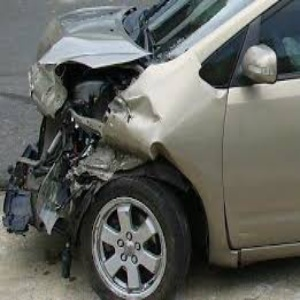bonnet: (65, 46, 203, 118)
bumper: (29, 129, 158, 239)
